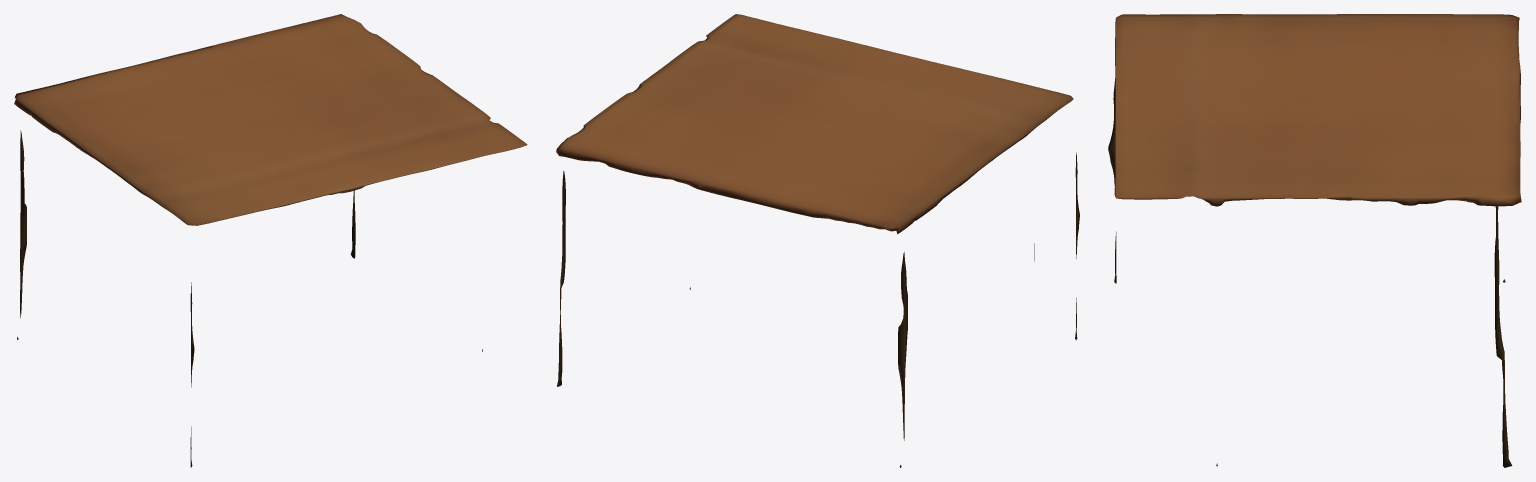
The model's file is A brown rectangle table with two broad legs..glb.
3 renders of one model, left to right at view 1: azimuth 30°, elevation 25°; view 2: azimuth 150°, elevation 25°; view 3: azimuth 270°, elevation 25°, orthographic. The views are drawn at different scales.
Parts seen in each view (by area): view 1: A brown rectangle table with two broad legs.; view 2: A brown rectangle table with two broad legs.; view 3: A brown rectangle table with two broad legs..
Part boxes in pixels (left/top/right/bottom): A brown rectangle table with two broad legs.: left=14, top=14, right=527, bottom=467; A brown rectangle table with two broad legs.: left=556, top=14, right=1079, bottom=467; A brown rectangle table with two broad legs.: left=1108, top=14, right=1521, bottom=467.
Size of the model in its own units: 0.8741 by 0.5962 by 0.8247.
